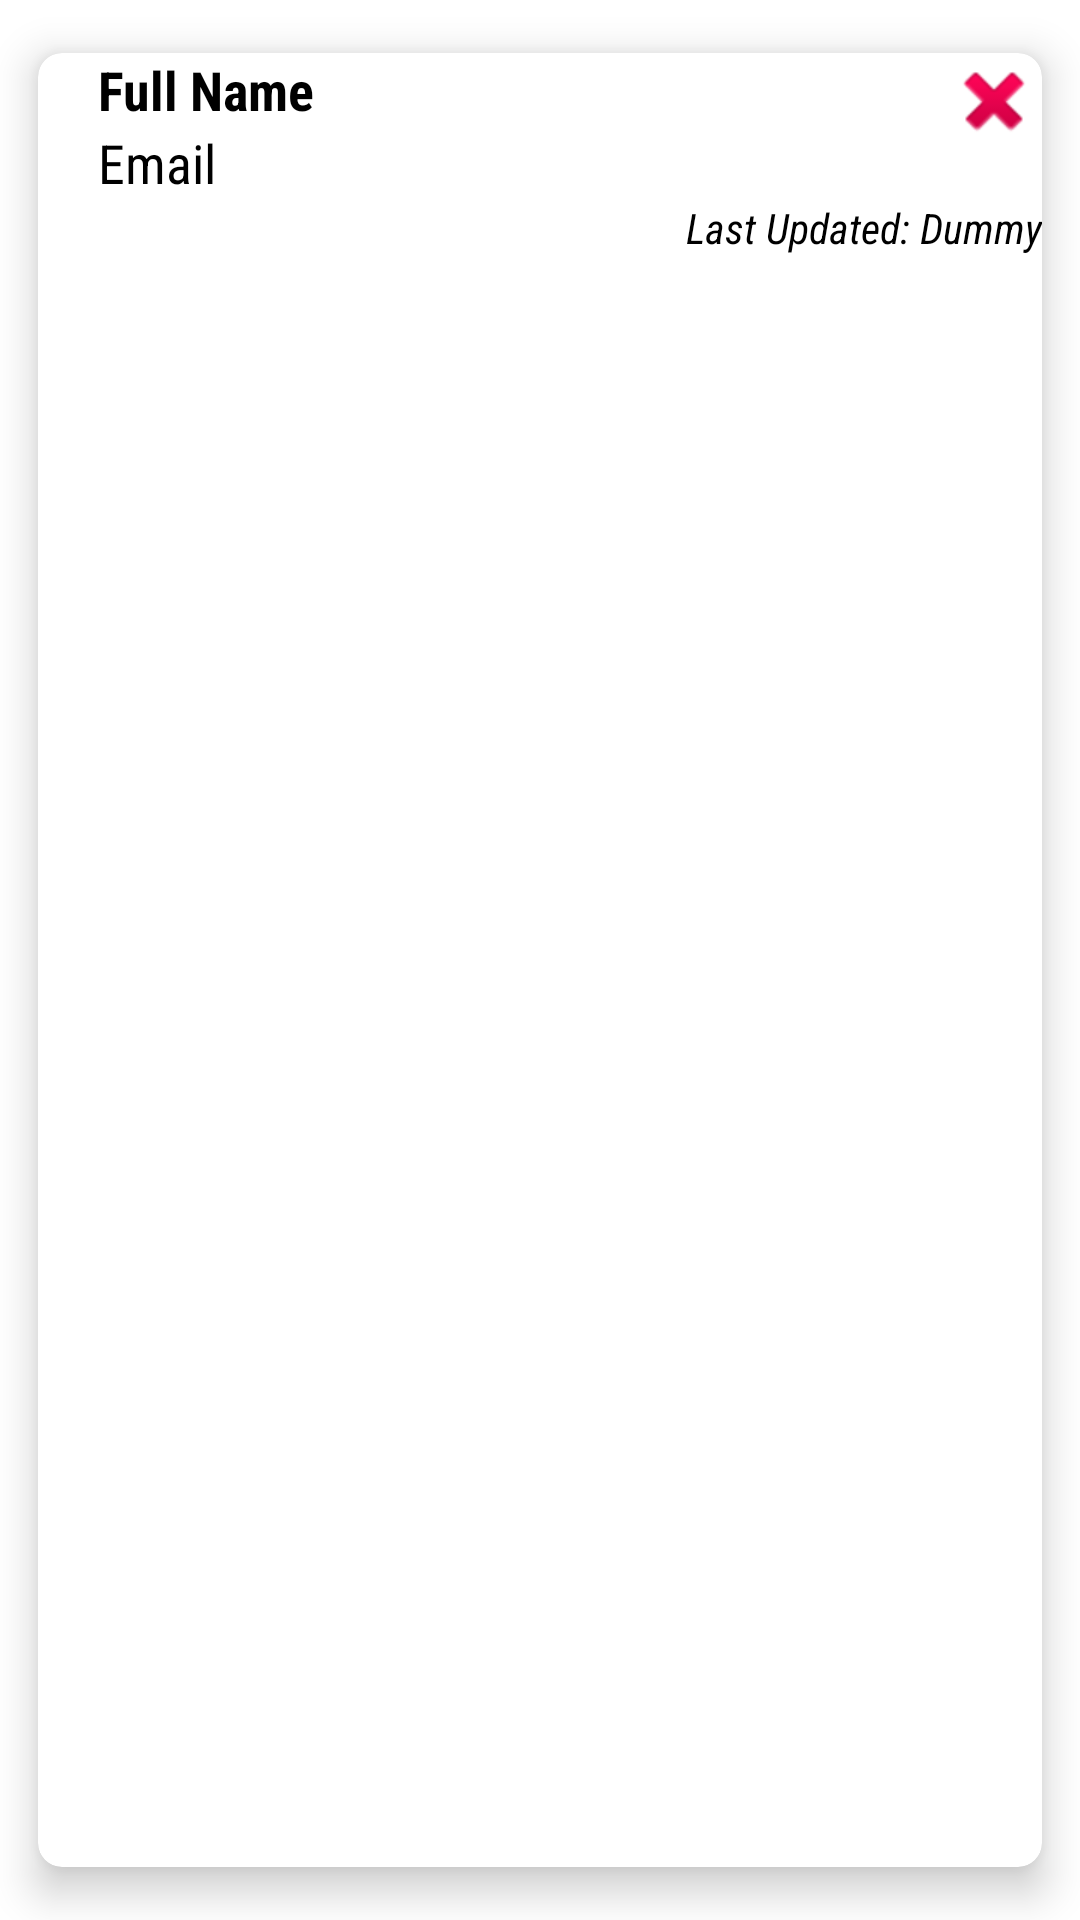

Icons on this 1080×1920 Android screen, each with the point to tap as point (x, y):
delete: point (994, 101)
